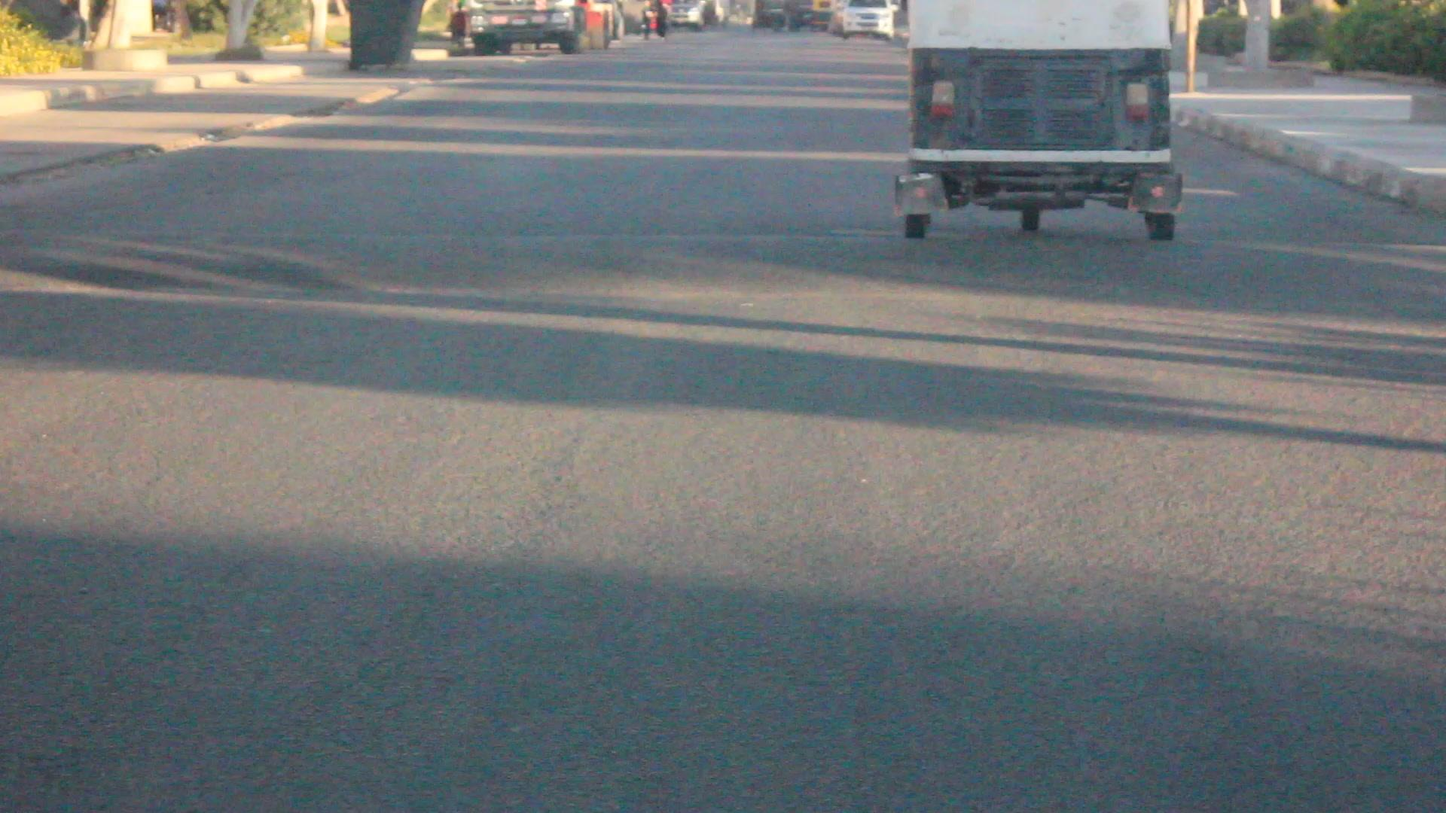Bump: (0, 228, 1446, 309)
